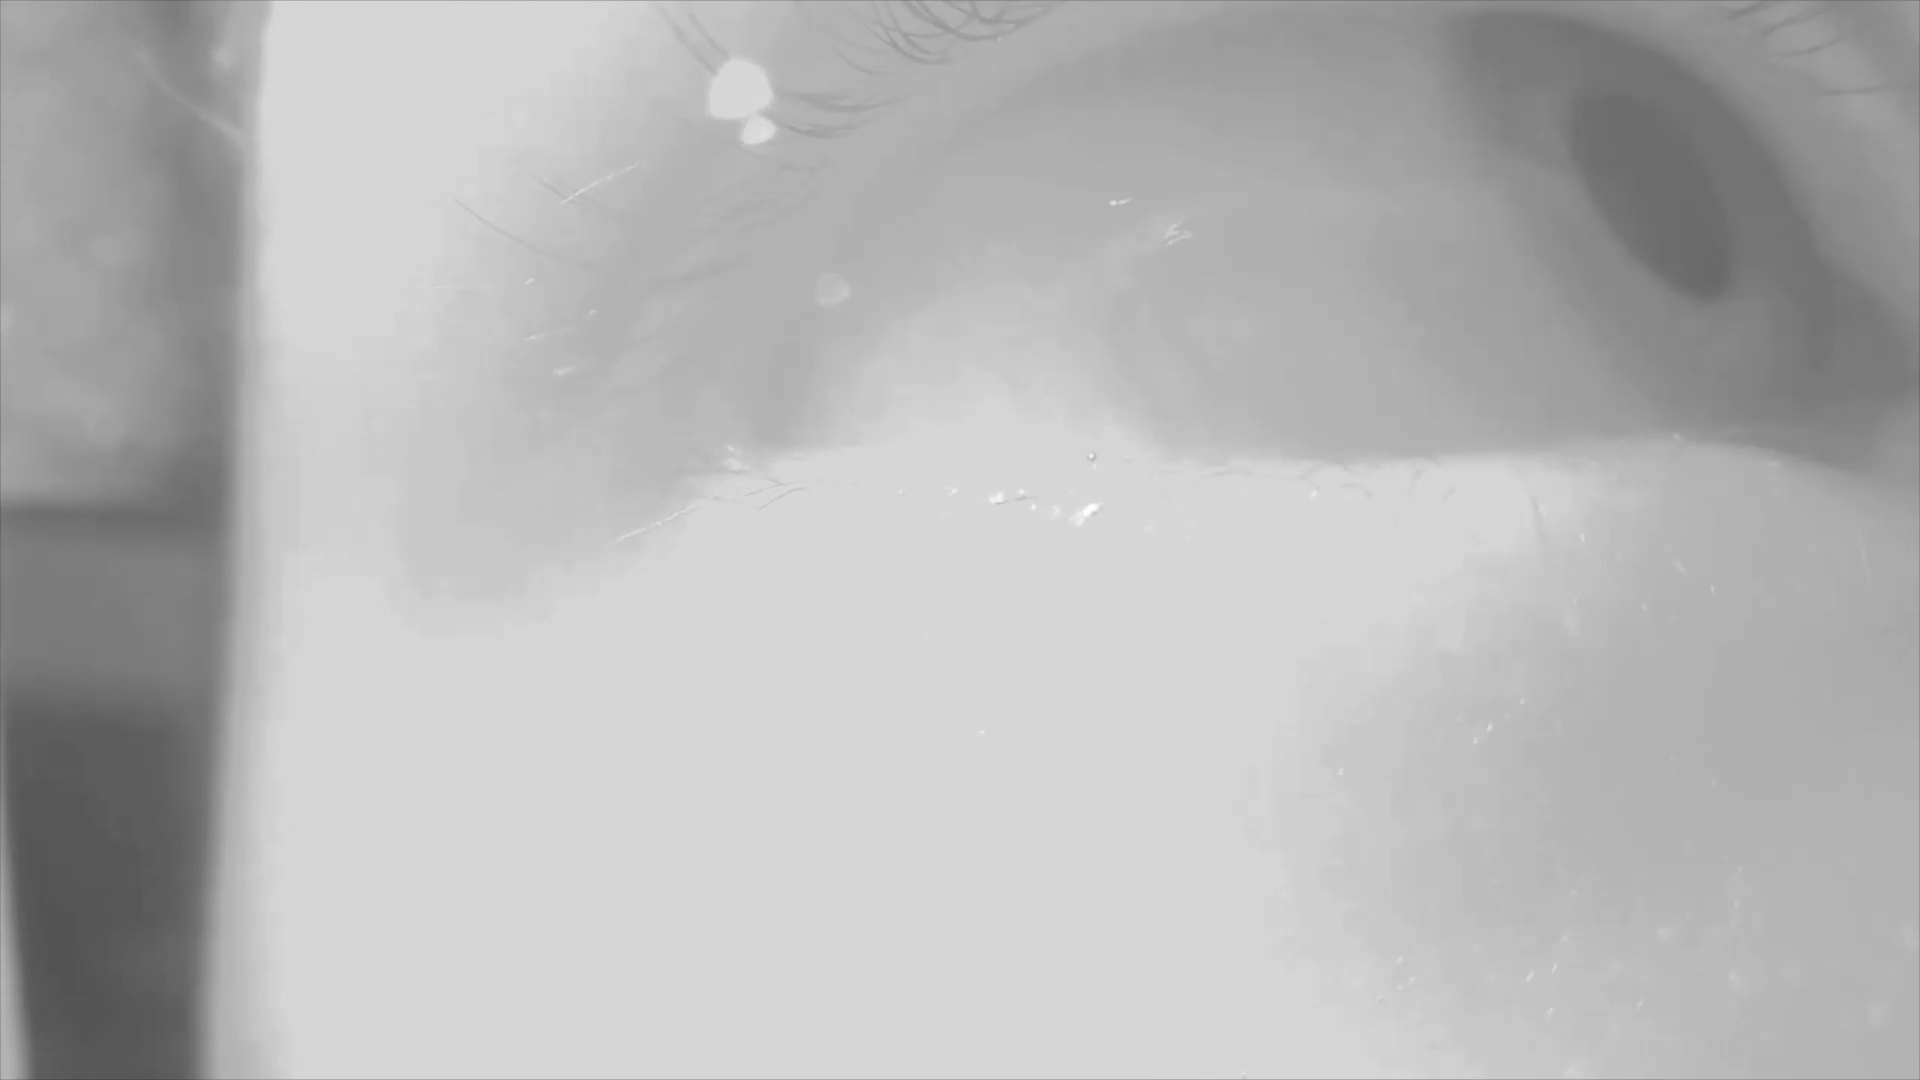pupil: (1573, 87, 1737, 301)
